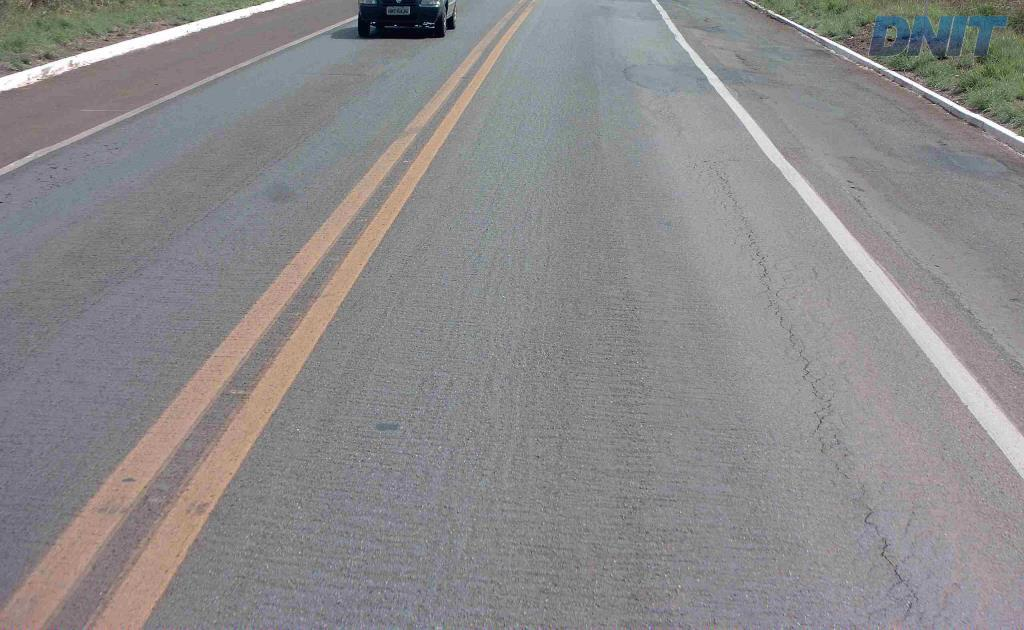crack: (877, 536, 920, 606)
